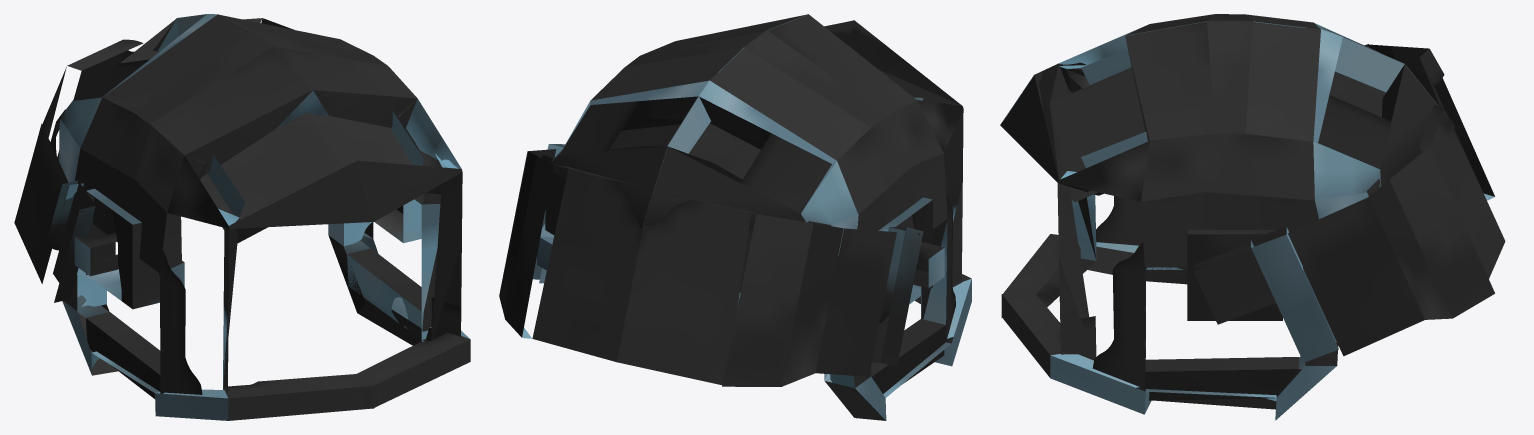
File: sobr_kit_h.obj
3 renders of one model, left to right at view 1: azimuth 30°, elevation 25°; view 2: azimuth 150°, elevation 25°; view 3: azimuth 270°, elevation 25°, orthographic. The views are drawn at different scales.
Parts seen in each view (by area): view 1: cube; view 2: cube; view 3: cube.
Boxes of the visible parts, x1,y1,x2,y2 form: cube: (14, 14, 470, 420); cube: (499, 14, 971, 420); cube: (1000, 14, 1505, 420).
Bounding box in the file's own units: 0.8222 × 0.7112 × 1.02.
